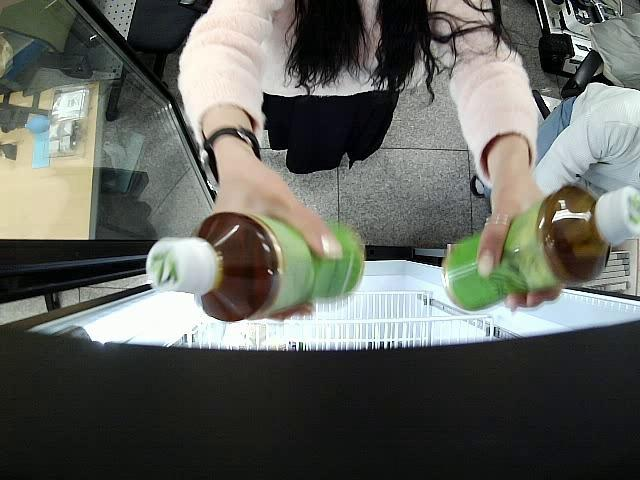19_17cha: (441, 183, 640, 311), (144, 210, 364, 324)
